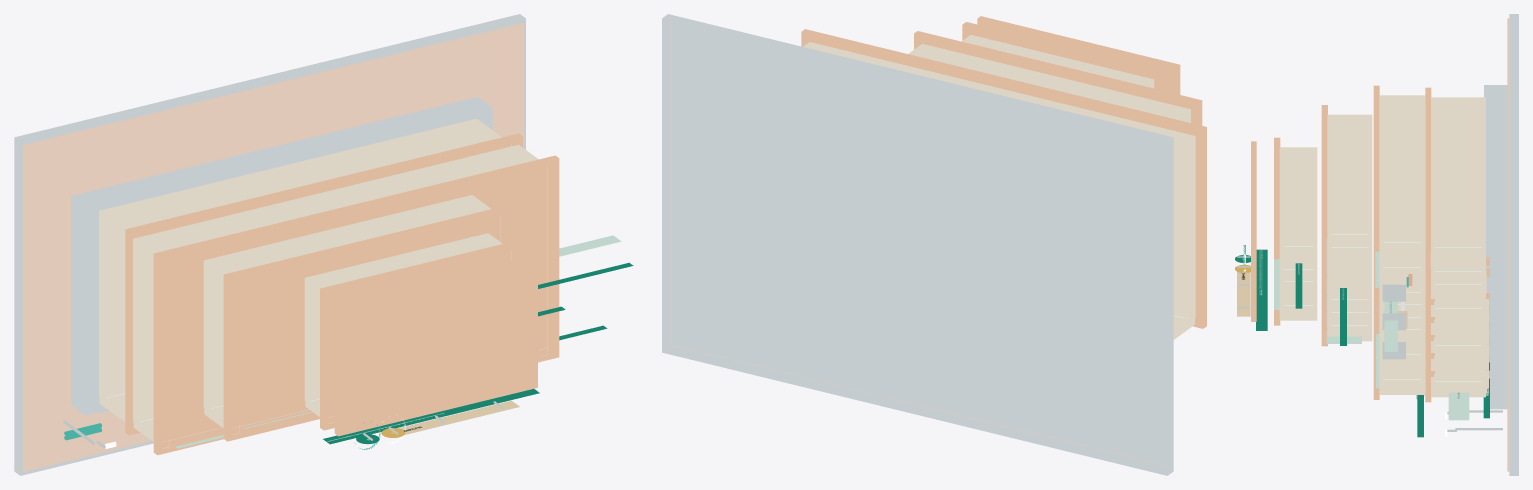
File: geropharm-house.glb
3 views of the same model, side by side, from view 1: azimuth 30°, elevation 25°; view 2: azimuth 150°, elevation 25°; view 3: azimuth 270°, elevation 25° (orthographic). The views are drawn at different scales.
Visible parts, largest first — view 1: Peach paving, Roof, floor2_slab, floor3_slab, Foundation, floor1_body, floor2_body, Plaza, floor3_body, floor1_slab, floor4_slab, floor4_body (+2 smaller); view 2: Plaza, floor2_slab, floor2_body, floor3_body, floor3_slab, floor4_slab, Roof, floor4_body, Peach paving; view 3: floor1_body, floor2_body, floor3_body, Foundation, floor4_body, Plaza, floor1_slab, floor2_slab, floor3_slab, Peach paving, Roof, MissionBand (+10 smaller).
Boxes of the visible parts, x1,y1,x2,y2 form: Peach paving: [22, 23, 524, 471]; Roof: [334, 255, 537, 436]; floor2_slab: [153, 155, 559, 455]; floor3_slab: [223, 205, 511, 441]; Foundation: [71, 97, 492, 415]; floor1_body: [99, 118, 511, 416]; floor2_body: [133, 144, 547, 442]; Plaza: [14, 14, 525, 475]; floor3_body: [203, 195, 500, 428]; floor1_slab: [125, 133, 522, 435]; floor4_slab: [320, 240, 523, 430]; floor4_body: [304, 233, 511, 417]; Plaza: [662, 14, 1173, 475]; floor2_slab: [801, 29, 1206, 328]; floor2_body: [803, 42, 1195, 333]; floor3_body: [908, 43, 1190, 122]; floor3_slab: [914, 31, 1202, 125]; floor4_slab: [962, 22, 1165, 91]; Roof: [977, 16, 1180, 94]; floor4_body: [961, 35, 1154, 88]; Peach paving: [670, 19, 1170, 466]; floor1_body: [1431, 97, 1485, 392]; floor2_body: [1379, 95, 1425, 390]; floor3_body: [1327, 114, 1372, 336]; Foundation: [1484, 85, 1507, 409]; floor4_body: [1279, 147, 1317, 315]; Plaza: [1509, 14, 1518, 475]; floor1_slab: [1425, 87, 1431, 402]; floor2_slab: [1373, 85, 1379, 399]; floor3_slab: [1321, 105, 1327, 346]; Peach paving: [1507, 18, 1509, 471]; Roof: [1251, 141, 1256, 321]; MissionBand: [1256, 249, 1267, 330].
Size of the model in its own units: 19.9 by 12 by 11.62.
Materials: 44 (32 with a texture image).
